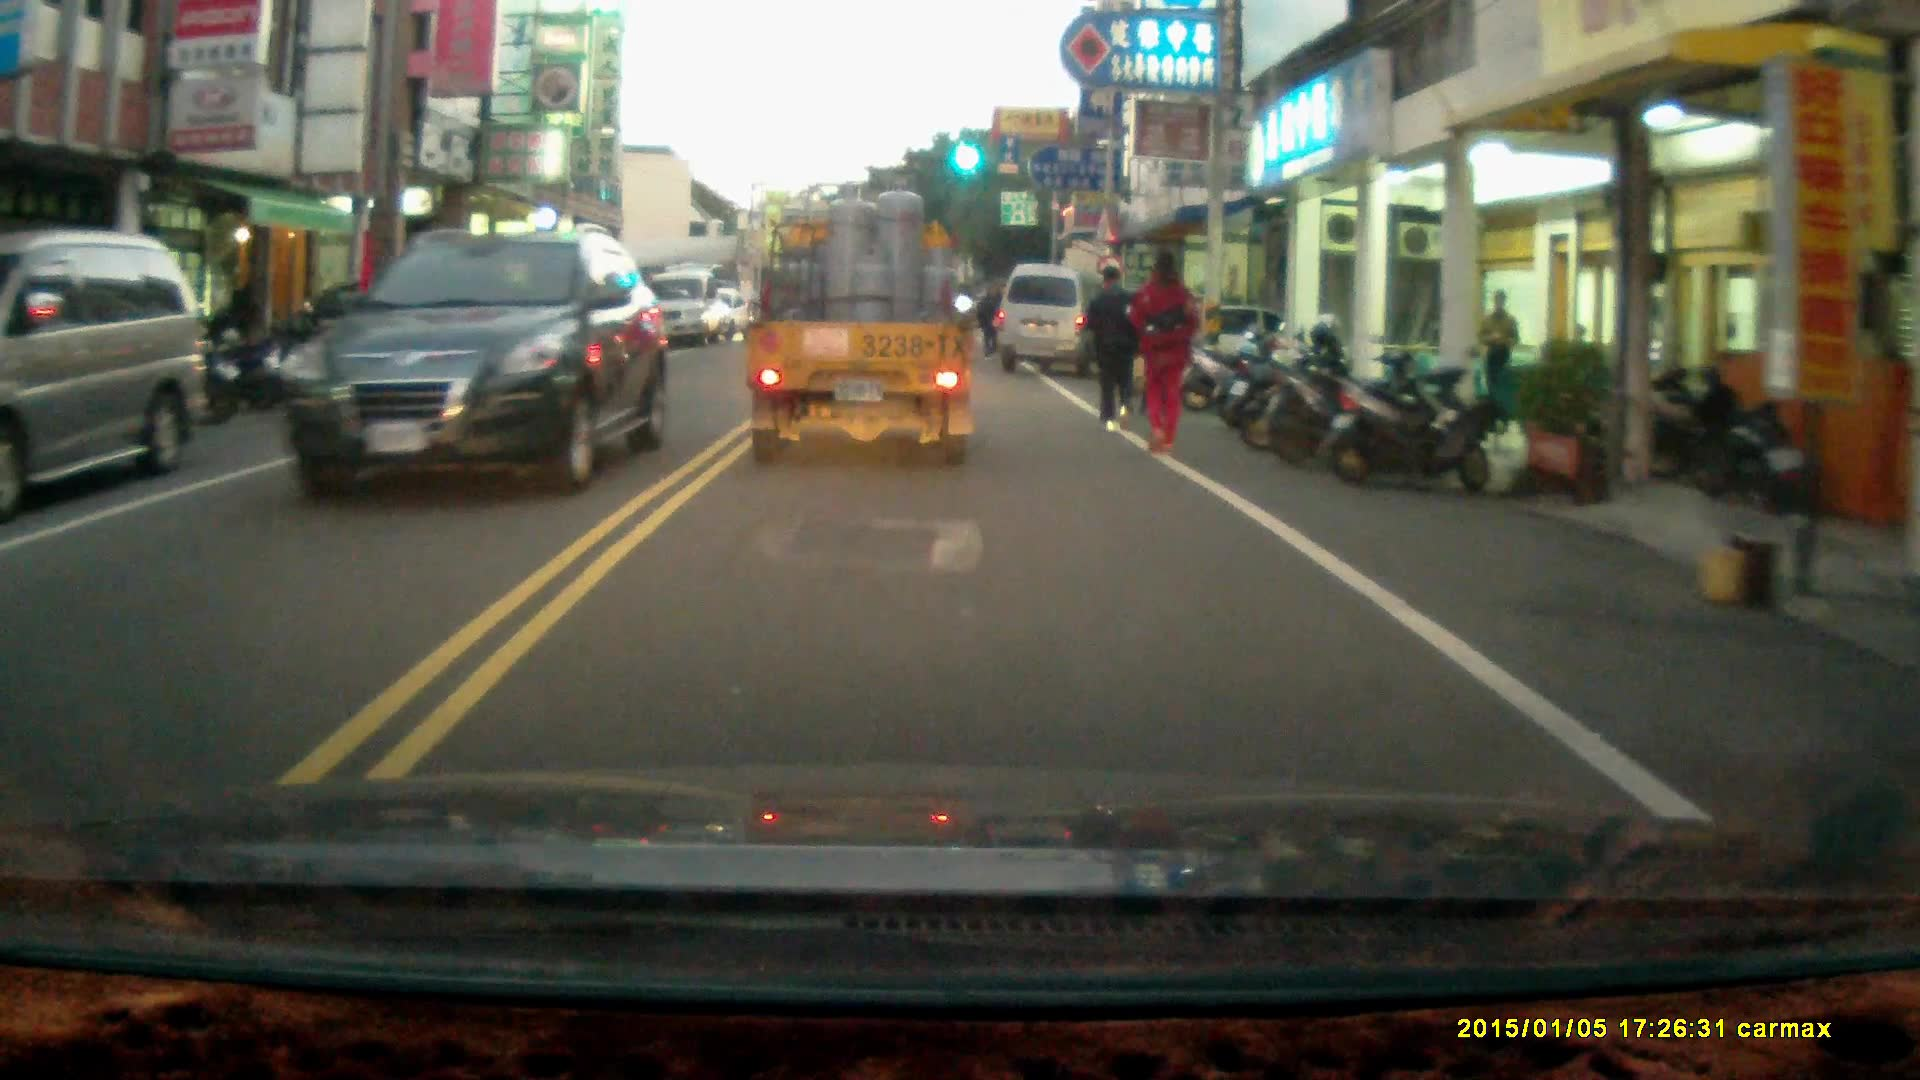pedestrian: (1134, 247, 1200, 458), (1083, 264, 1145, 436), (1474, 290, 1519, 420)
vehicle: (284, 222, 671, 503), (740, 174, 984, 477), (1, 234, 224, 500), (273, 290, 522, 388), (999, 266, 1116, 381)
